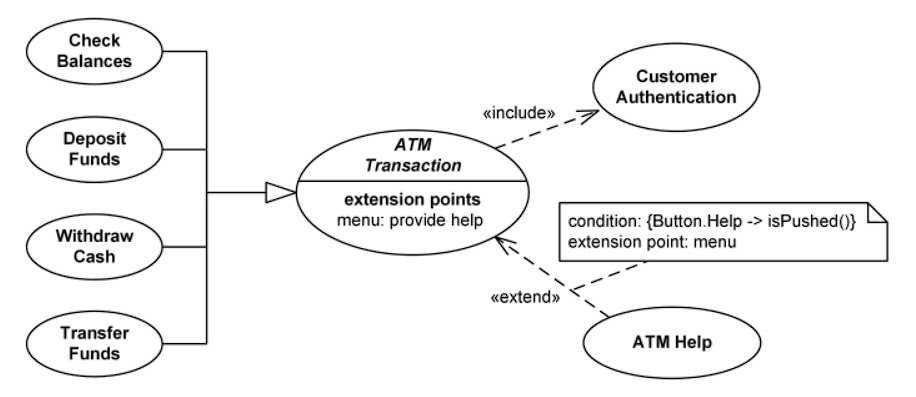association: (492, 233, 608, 316), (495, 107, 600, 148)
generalization: (164, 182, 294, 345), (163, 48, 297, 204), (162, 181, 294, 248), (161, 147, 296, 205)
text: (564, 209, 864, 254), (329, 189, 490, 234), (611, 65, 742, 107), (364, 134, 467, 176), (51, 225, 138, 268), (52, 29, 139, 71), (622, 324, 715, 363), (56, 324, 138, 364), (56, 128, 134, 169), (487, 284, 564, 310), (479, 102, 562, 122)
use_case: (292, 127, 532, 258), (591, 39, 761, 134), (579, 303, 765, 383), (21, 113, 164, 186), (24, 15, 165, 87), (23, 308, 165, 379), (24, 212, 161, 282)
